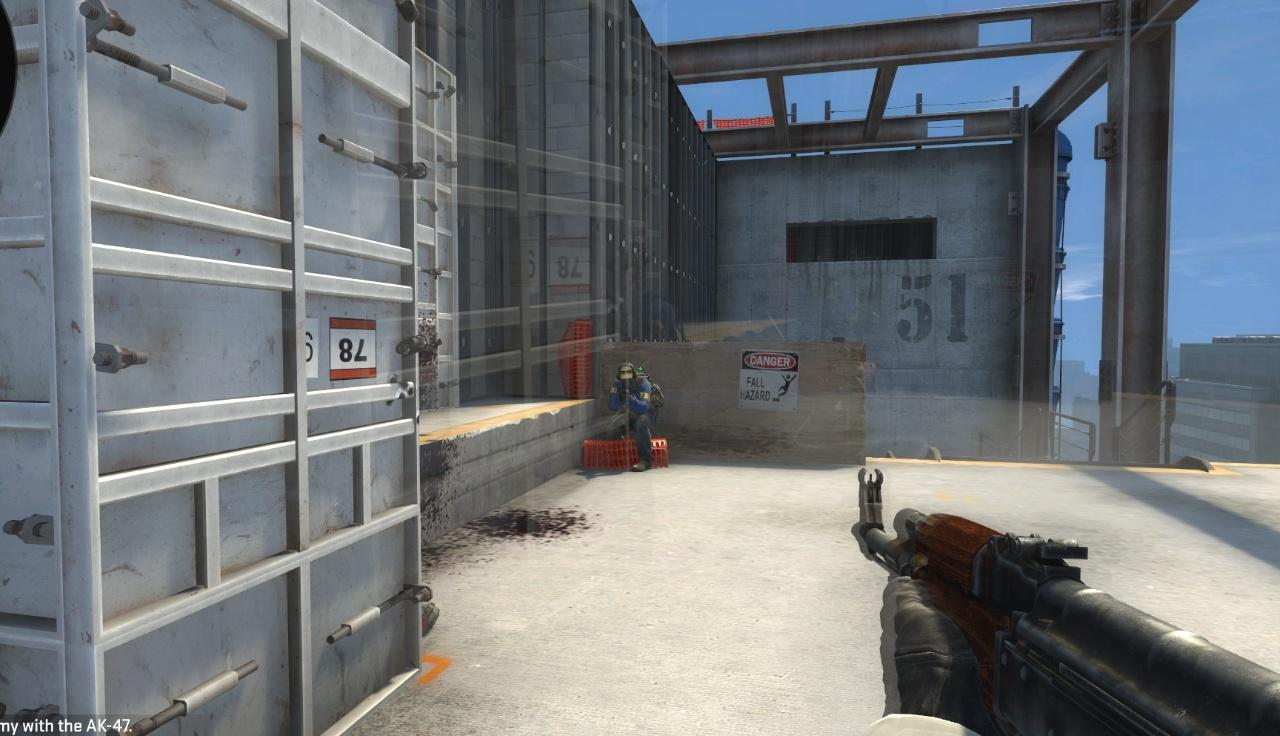ct: (609, 362, 654, 474)
cthead: (616, 363, 634, 386)
rifle: (847, 464, 1280, 736)
